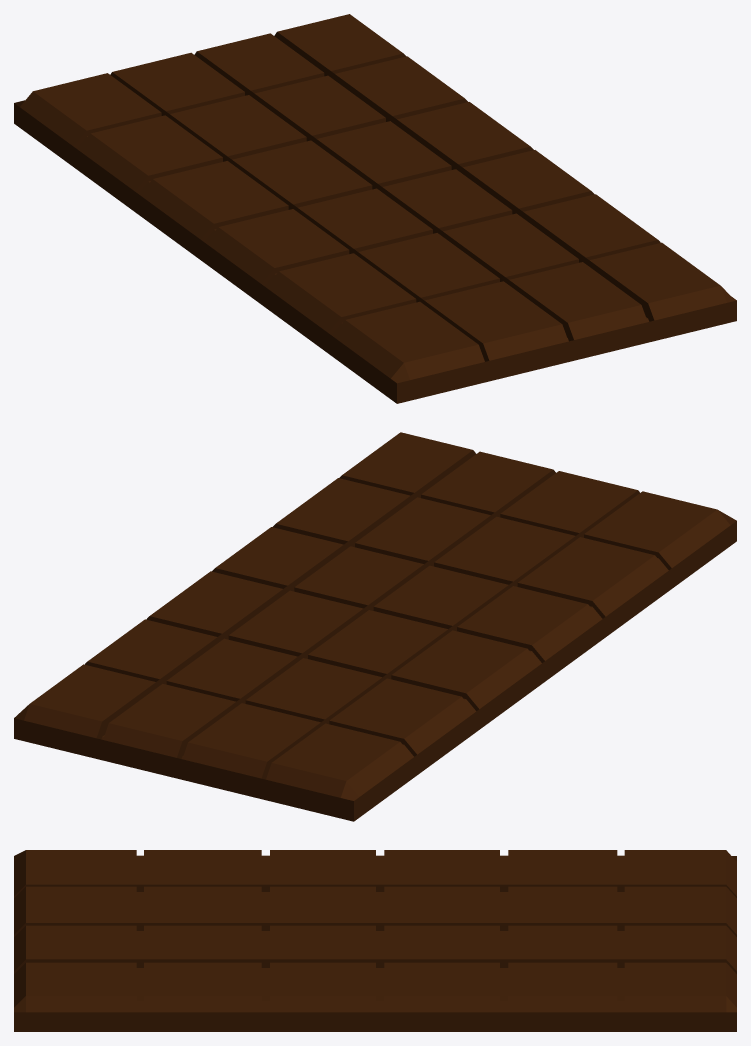
File: Chocolate.fbx
The picture shows the model from 3 angles, top to bottom: view 1: azimuth 30°, elevation 25°; view 2: azimuth 150°, elevation 25°; view 3: azimuth 270°, elevation 25°; orthographic projection. The views are drawn at different scales.
Visible parts, largest first — view 1: Cube; view 2: Cube; view 3: Cube.
Boxes of the visible parts, x1=… form: Cube: x1=14, y1=14, x2=736, y2=403; Cube: x1=14, y1=432, x2=736, y2=821; Cube: x1=14, y1=850, x2=736, y2=1031.
Bounding box in the file's own units: 364 × 34.02 × 711.
